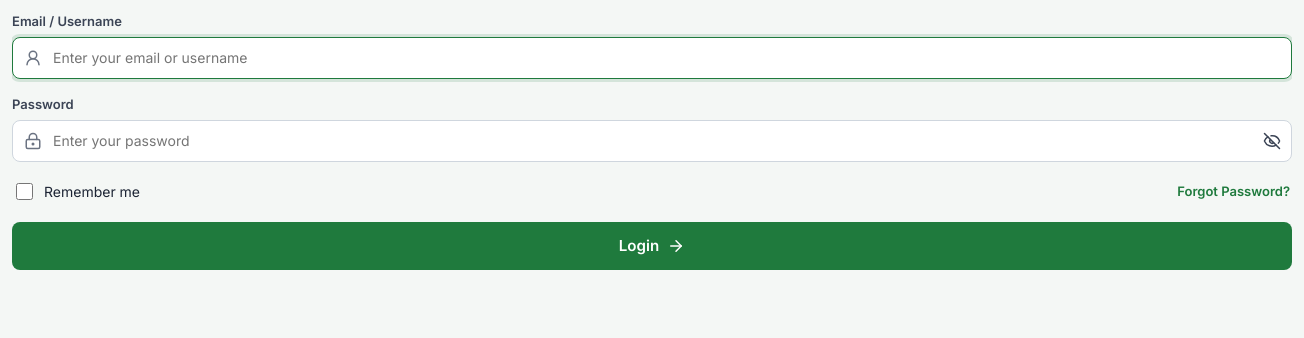
Test: LoginForm › asks for both fields before sending
Click the button "Login" at (652, 246), box [12, 222, 1292, 270]
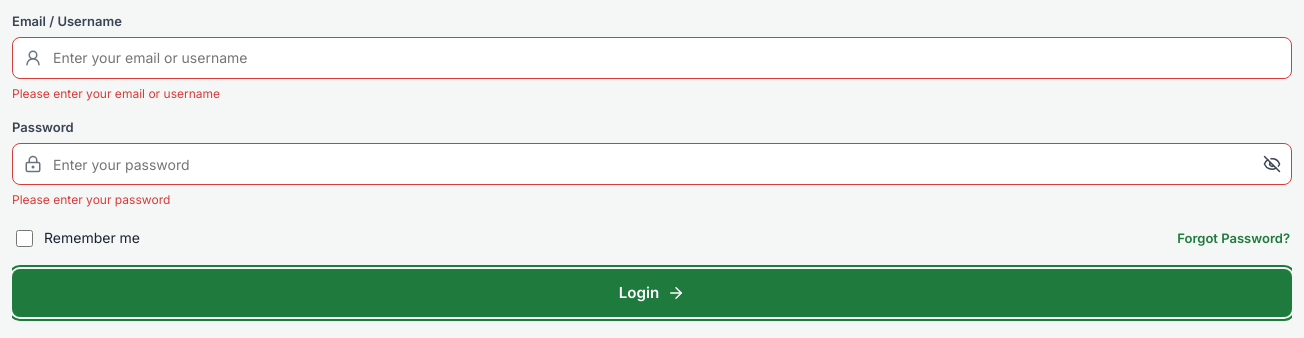
Now the text "Please enter your email or username" is shown, box [12, 86, 220, 101]
Now the text "Please enter your password" is shown, box [12, 192, 170, 207]
